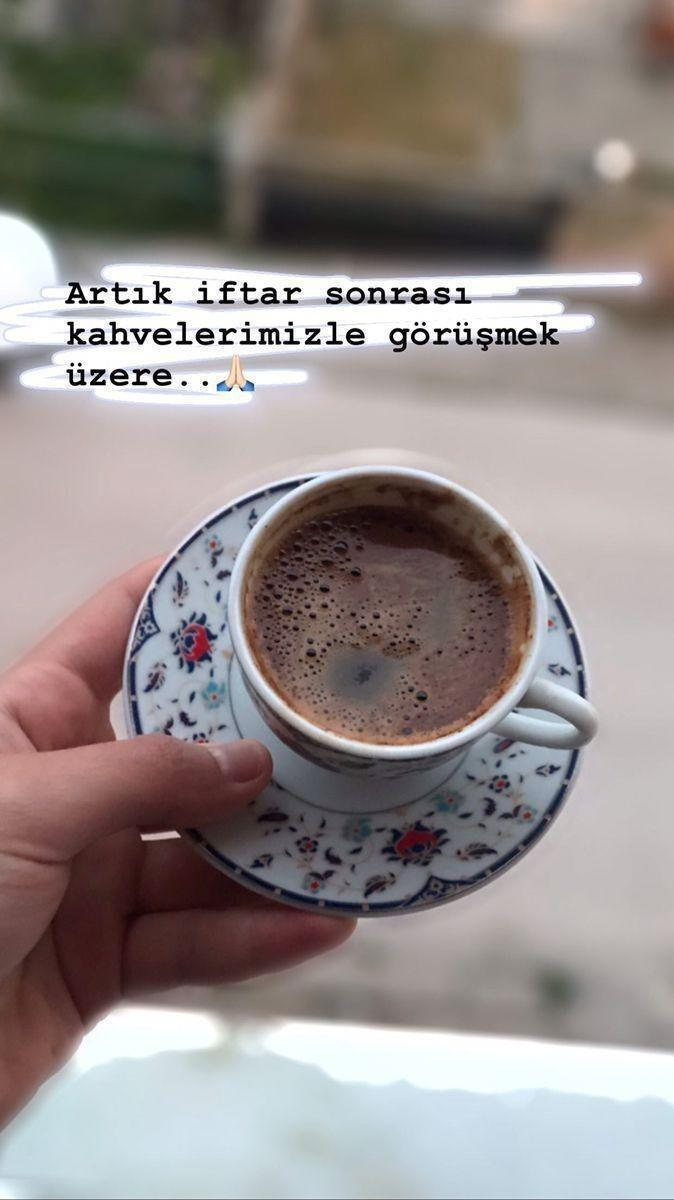cup-handle: (220, 454, 597, 815)
